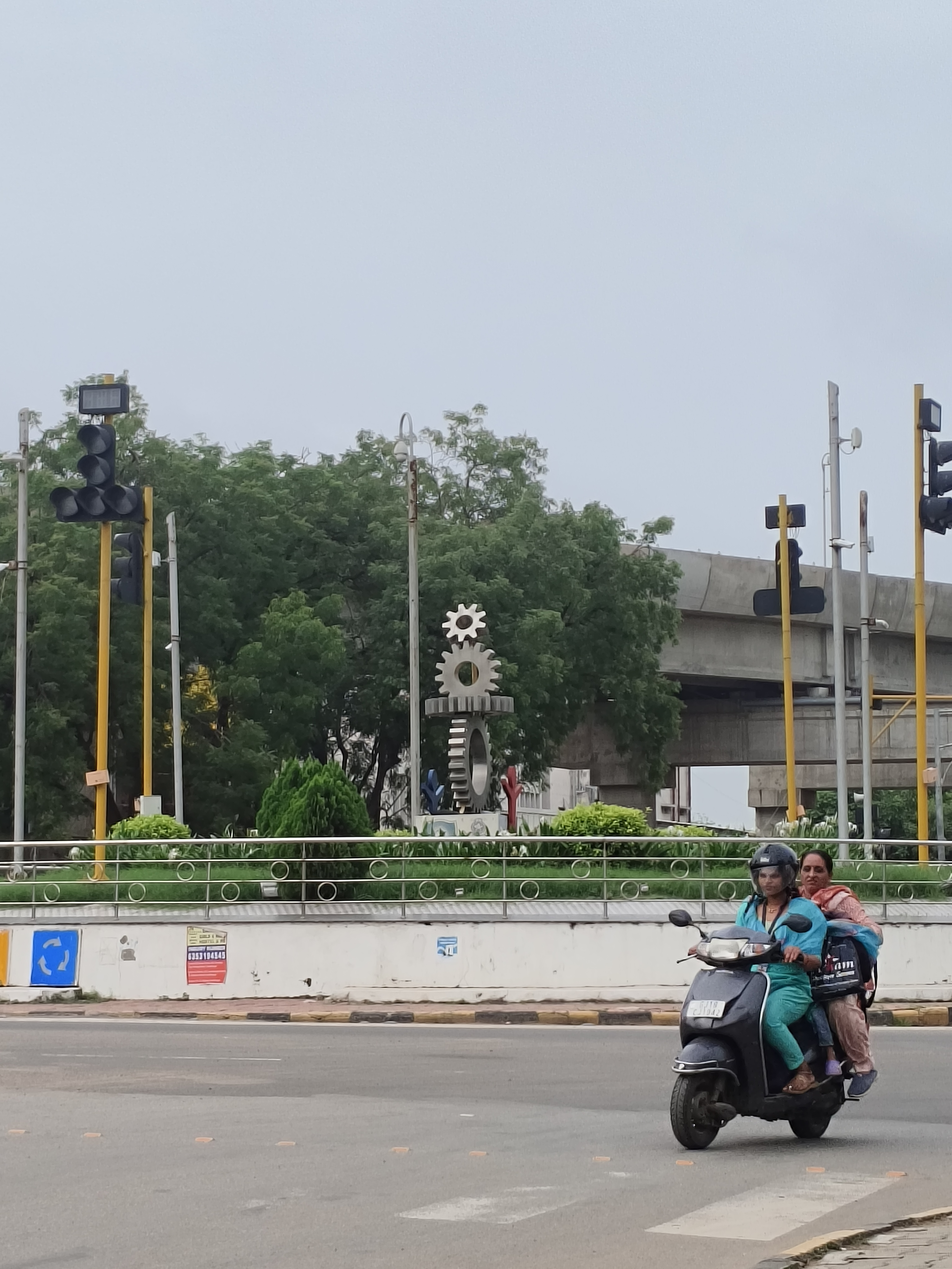BikeWithRider: (665, 841, 884, 1152)
Helmet: (747, 843, 800, 897)
NoHelmet: (799, 848, 834, 893)
